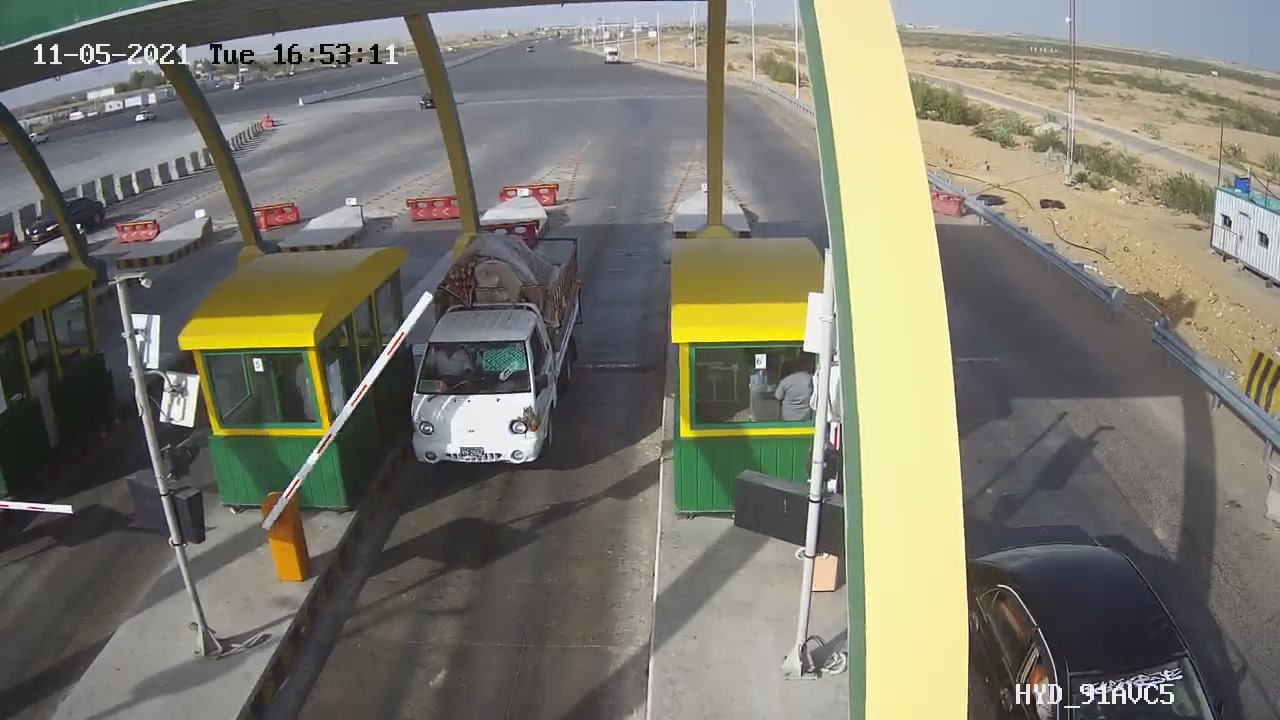F2: (394, 218, 605, 486)
